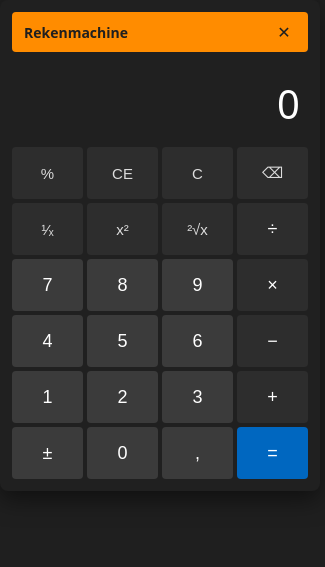
Test case: Calculator met toolbar › toont een melding als de browser het sluiten blokkeert
The width and height of the screenshot is (325, 567).
Click the button named "Sluiten". click: (284, 32)
box: x1=264 y1=16 x2=304 y2=48
Wait 200 ms
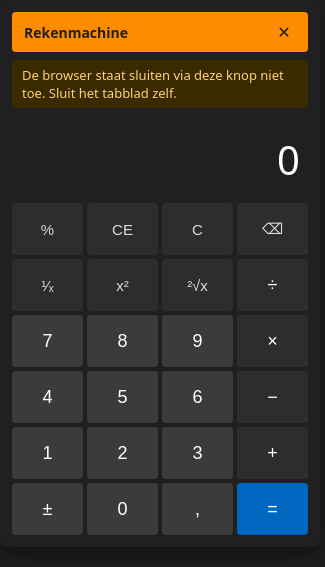
Expected: the message "De browser staat sluiten via deze knop niet toe. Sluit het tabblad zelf." is shown, x1=12 y1=60 x2=308 y2=108
